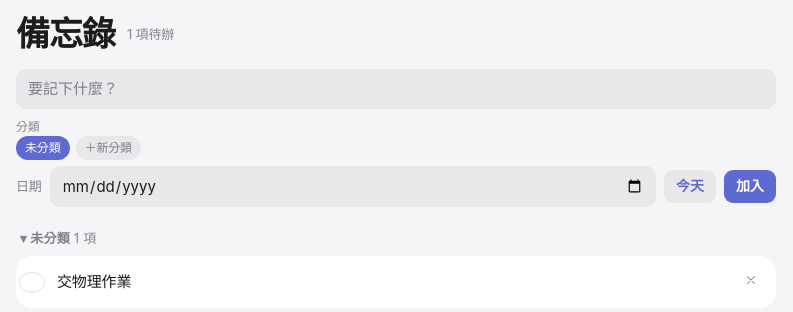
Test: 備忘錄刪除失敗復原 › DELETE 已提交但回應遺失時，以重讀結果移除且不重送
The width and height of the screenshot is (793, 312).
Click the button named "刪除「交物理作業」": [751, 282] box x1=742 y1=269 x2=760 y2=295
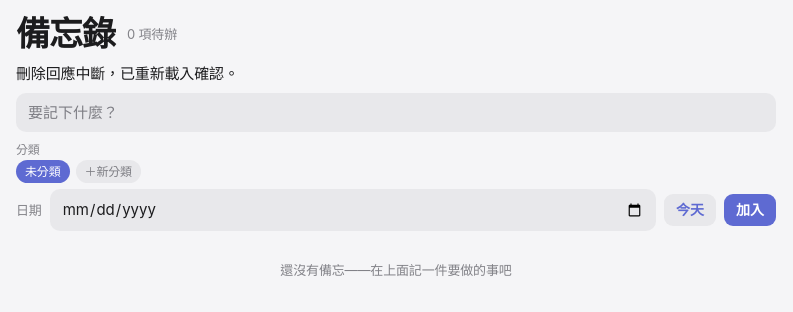
Check: the message shows "已重新載入確認", box x1=16 y1=64 x2=239 y2=83
Check: the text "交物理作業" is gone
